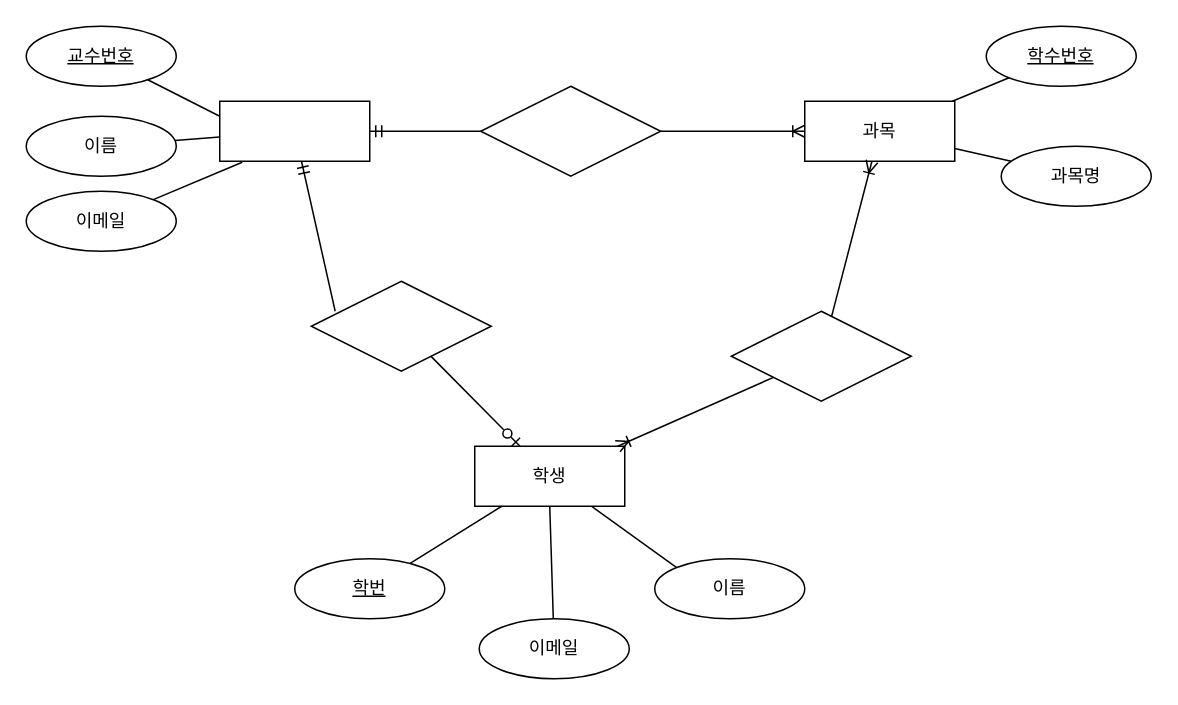
Some shapes in this 1178 by 705 pixel diagram are drawn without their labels. The box of each missing label's shape, as (x1, y1, x2, y2) in pixels:
강의: (479, 85, 661, 176)
교수: (218, 100, 370, 161)
수강: (730, 310, 911, 401)
지도: (310, 280, 491, 371)
